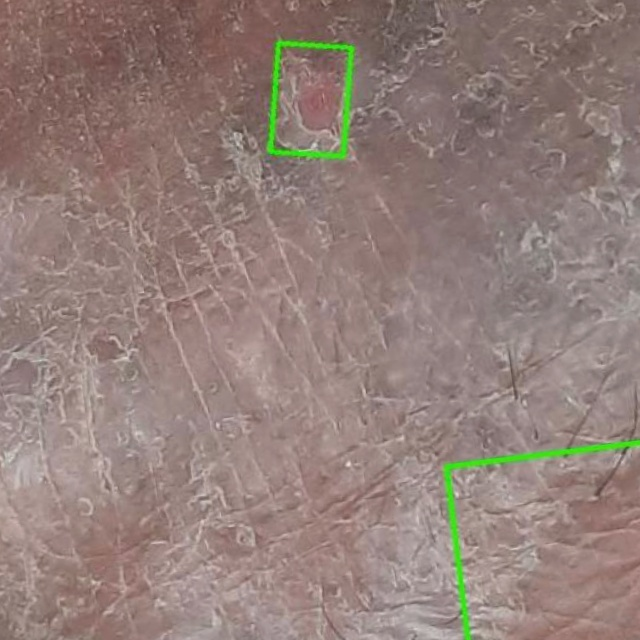Eczema: (271, 42, 351, 156)
